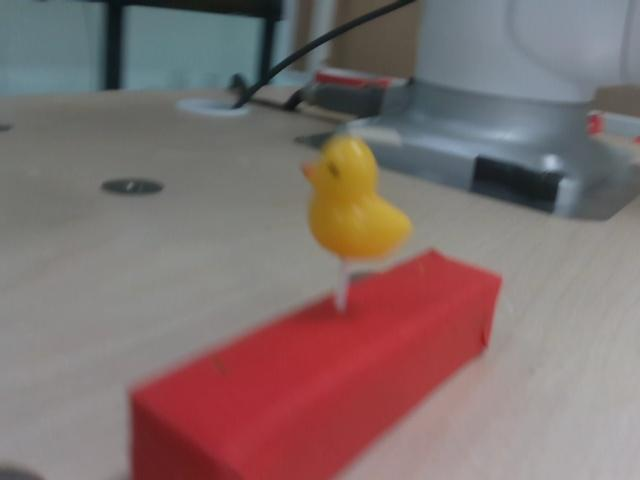y_duck: (302, 141, 412, 264)
